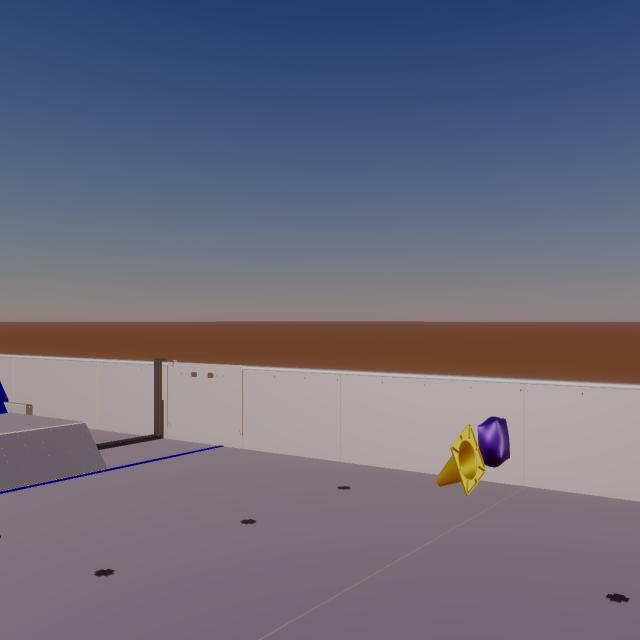frc_cone: (437, 423, 486, 496)
frc_cube: (478, 417, 510, 468), (0, 535, 1, 538)
